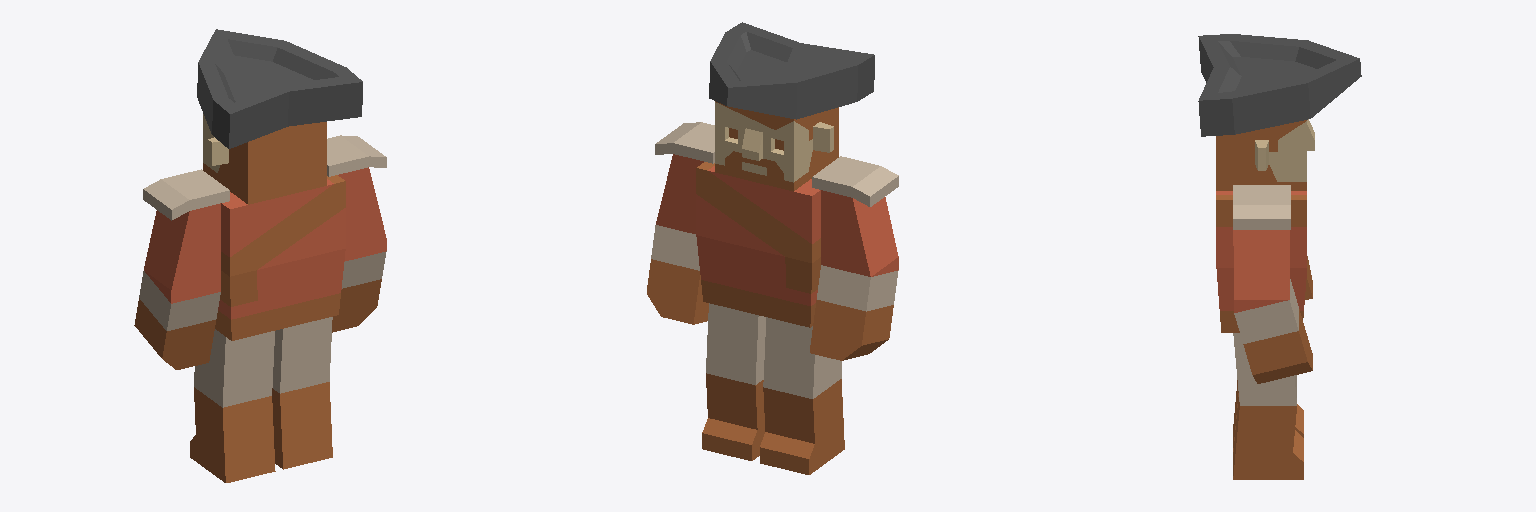
Rendered from pirate_captain.obj.
The picture shows the model from 3 angles: view 1: azimuth 30°, elevation 25°; view 2: azimuth 150°, elevation 25°; view 3: azimuth 270°, elevation 25°; orthographic projection.
Parts seen in each view (by area): view 1: Group 122, body, armLeft, legLeft, legRight, armRight; view 2: Group 122, body, armLeft, legLeft, armRight, legRight; view 3: Group 122, armRight, legRight, body.
Part boxes in pixels (x1,y1,x2,y2): Group 122: (197, 29, 362, 204); body: (215, 175, 345, 340); armLeft: (134, 169, 229, 369); legLeft: (190, 329, 275, 482); legRight: (272, 317, 332, 469); armRight: (327, 135, 386, 332); Group 122: (709, 22, 874, 191); body: (696, 162, 820, 327); armLeft: (810, 156, 898, 360); legLeft: (760, 317, 844, 474); armRight: (647, 122, 714, 324); legRight: (702, 303, 765, 460); Group 122: (1198, 34, 1361, 190); armRight: (1233, 185, 1312, 383); legRight: (1233, 333, 1303, 479); body: (1216, 191, 1306, 332).
Bounding box in the file's own units: 6.24 × 10.94 × 4.1.